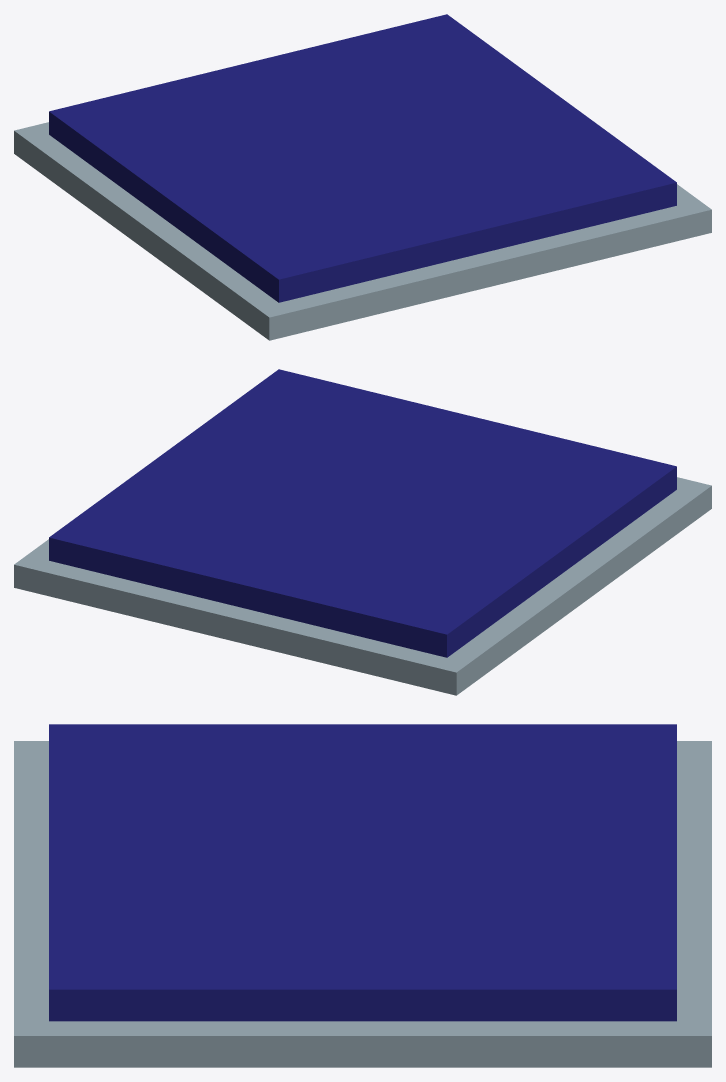
Rendered from Matrix_1.fbx.
The picture shows the model from 3 angles, top to bottom: view 1: azimuth 30°, elevation 25°; view 2: azimuth 150°, elevation 25°; view 3: azimuth 270°, elevation 25°; orthographic projection. The views are drawn at different scales.
Visible parts, largest first — view 1: Matrix_1; view 2: Matrix_1; view 3: Matrix_1.
Part boxes in pixels (left/top/right/bottom): Matrix_1: left=14, top=14, right=711, bottom=340; Matrix_1: left=14, top=369, right=711, bottom=695; Matrix_1: left=14, top=724, right=711, bottom=1067.
Size of the model in its own units: 20 by 2 by 20.
